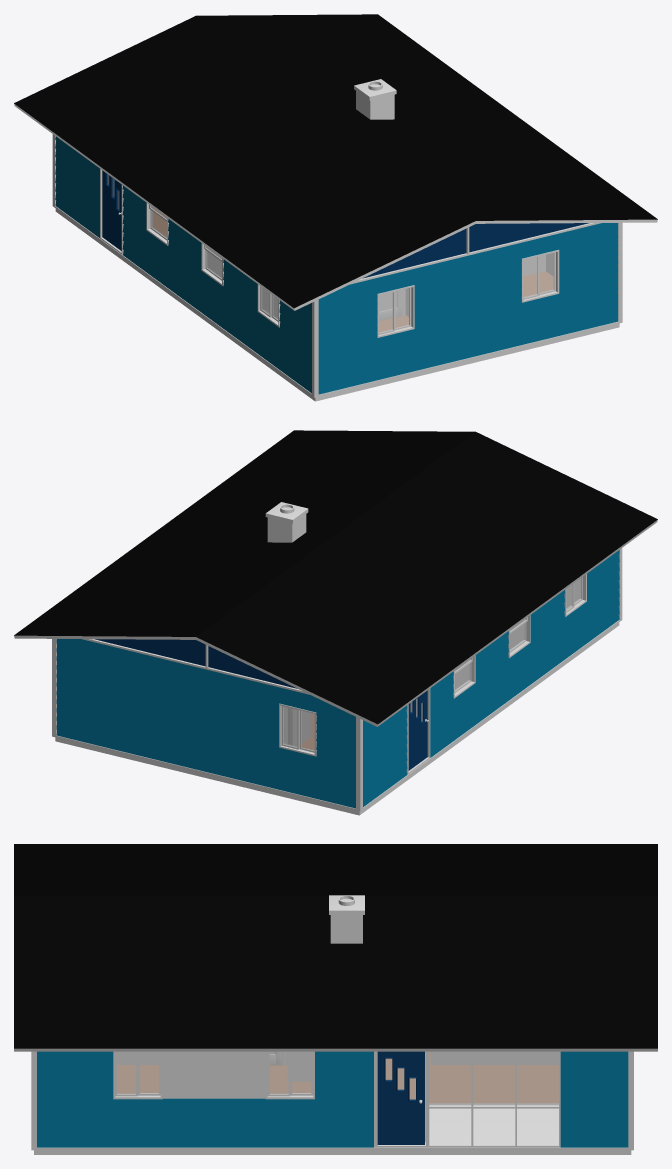
File: Biru.fbx
3 views of the same model, one above another, from view 1: azimuth 30°, elevation 25°; view 2: azimuth 150°, elevation 25°; view 3: azimuth 270°, elevation 25° (orthographic). The views are drawn at different scales.
Visible parts, largest first — view 1: fw-50-roof_Asphalt020_0, fw-50-siding_C_plywood_grey_0, fw-50-supportBeams_Wood058_0, fw-50-walls_Accent_Blue_0, fw-50-foundation_ConcreteSubstance004_0, fw-50-roof_Wood058_0, fw-50-doorFront_I.002_Accent_Blue_0, fw-50-windowDouble.002_Glass_0, fw-50-windowDouble.004_Glass_0, fw-50-walls_WoodFloor_0, fw-50-walls_Wood058_0, fw-50-chimney_Metal_White_0 (+3 smaller); view 2: fw-50-roof_Asphalt020_0, fw-50-siding_C_plywood_grey_0, fw-50-supportBeams_Wood058_0, fw-50-walls_Accent_Blue_0, fw-50-foundation_ConcreteSubstance004_0, fw-50-roof_Wood058_0, fw-50-doorFront_I.002_Accent_Blue_0, fw-50-windowDouble.006_Glass_0, fw-50-walls_Wood058_0, fw-50-chimney_Metal_White_0, fw-50-windowDouble.006_Wood058_0, fw-50-chimney_Metal_Aluminum_0; view 3: fw-50-roof_Asphalt020_0, fw-50-siding_C_plywood_grey_0, fw-50-walls_Wood058_0, fw-50-walls_WoodFloor_0, windowLarge-triple-designB.006_Glass_0, windowLarge-triple-designB.006_Wood058_0, fw-50-doorFront_I.001_Accent_Blue_0, fw-50-supportBeams_Wood058_0, fw-50-foundation_ConcreteSubstance004_0, fw-50-roof_Wood058_0, windowLarge-triple-designB.006_Wood_0, fw-50-windowDouble.003_Glass_0 (+6 smaller).
Boxes of the visible parts, x1=… form: fw-50-roof_Asphalt020_0: x1=14, y1=14, x2=657, y2=308; fw-50-siding_C_plywood_grey_0: x1=55, y1=136, x2=618, y2=394; fw-50-supportBeams_Wood058_0: x1=52, y1=134, x2=622, y2=397; fw-50-walls_Accent_Blue_0: x1=363, y1=223, x2=589, y2=278; fw-50-foundation_ConcreteSubstance004_0: x1=55, y1=209, x2=619, y2=401; fw-50-roof_Wood058_0: x1=14, y1=103, x2=657, y2=310; fw-50-doorFront_I.002_Accent_Blue_0: x1=102, y1=170, x2=121, y2=250; fw-50-windowDouble.002_Glass_0: x1=523, y1=253, x2=553, y2=297; fw-50-windowDouble.004_Glass_0: x1=379, y1=288, x2=409, y2=332; fw-50-walls_WoodFloor_0: x1=154, y1=208, x2=553, y2=331; fw-50-walls_Wood058_0: x1=209, y1=249, x2=553, y2=317; fw-50-chimney_Metal_White_0: x1=356, y1=91, x2=394, y2=119; fw-50-roof_Asphalt020_0: x1=14, y1=430, x2=657, y2=724; fw-50-siding_C_plywood_grey_0: x1=56, y1=550, x2=619, y2=808; fw-50-supportBeams_Wood058_0: x1=52, y1=548, x2=622, y2=811; fw-50-walls_Accent_Blue_0: x1=95, y1=639, x2=296, y2=688; fw-50-foundation_ConcreteSubstance004_0: x1=55, y1=622, x2=619, y2=815; fw-50-roof_Wood058_0: x1=14, y1=520, x2=657, y2=726; fw-50-doorFront_I.002_Accent_Blue_0: x1=408, y1=690, x2=427, y2=770; fw-50-windowDouble.006_Glass_0: x1=283, y1=707, x2=314, y2=750; fw-50-walls_Wood058_0: x1=294, y1=580, x2=578, y2=746; fw-50-chimney_Metal_White_0: x1=267, y1=514, x2=306, y2=542; fw-50-windowDouble.006_Wood058_0: x1=279, y1=703, x2=316, y2=756; fw-50-chimney_Metal_Aluminum_0: x1=265, y1=502, x2=308, y2=523; fw-50-roof_Asphalt020_0: x1=14, y1=844, x2=657, y2=1048; fw-50-siding_C_plywood_grey_0: x1=37, y1=1051, x2=628, y2=1147; fw-50-walls_Wood058_0: x1=117, y1=1051, x2=558, y2=1098; fw-50-walls_WoodFloor_0: x1=117, y1=1051, x2=558, y2=1142; windowLarge-triple-designB.006_Glass_0: x1=429, y1=1051, x2=558, y2=1104; windowLarge-triple-designB.006_Wood058_0: x1=376, y1=1051, x2=558, y2=1147; fw-50-doorFront_I.001_Accent_Blue_0: x1=377, y1=1051, x2=424, y2=1144; fw-50-supportBeams_Wood058_0: x1=31, y1=1051, x2=633, y2=1150; fw-50-foundation_ConcreteSubstance004_0: x1=34, y1=1150, x2=631, y2=1154; fw-50-roof_Wood058_0: x1=14, y1=1048, x2=657, y2=1051; windowLarge-triple-designB.006_Wood_0: x1=374, y1=1051, x2=560, y2=1147; fw-50-windowDouble.003_Glass_0: x1=269, y1=1051, x2=311, y2=1093.
Size of the model in its own units: 919 by 410 by 1224.
